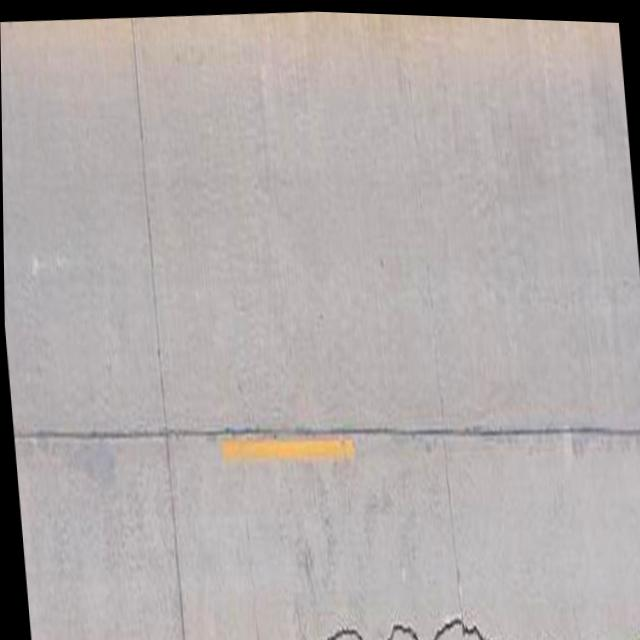Crack: (276, 578, 529, 640)
